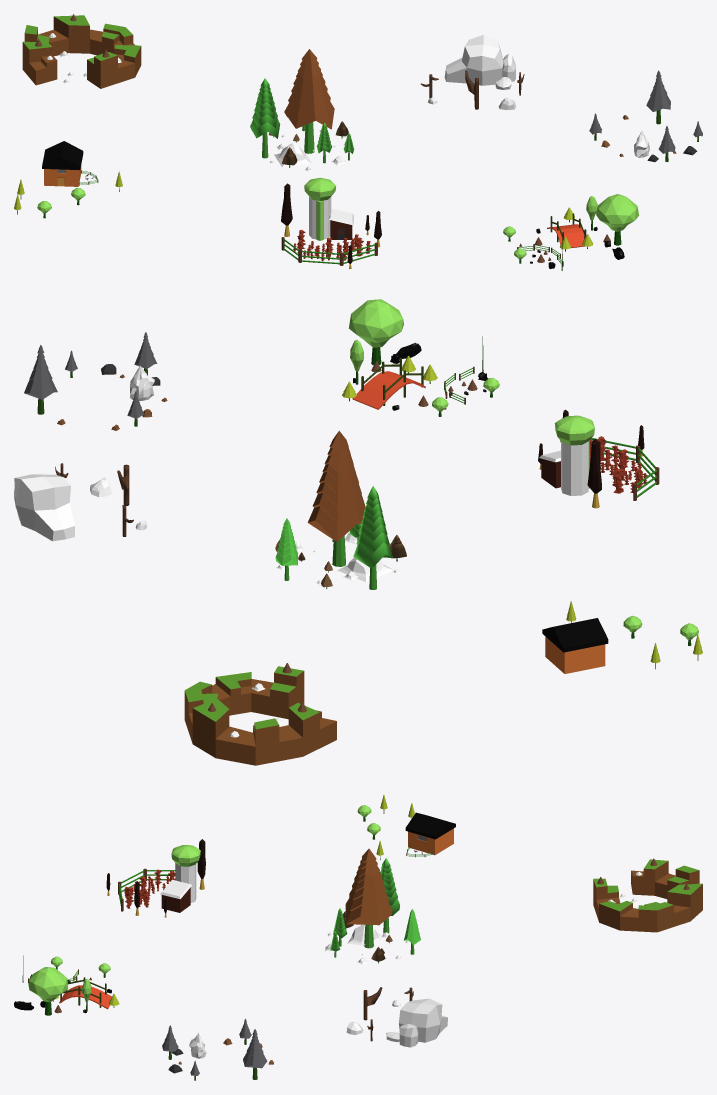
File: village.fbx
3 renders of one model, top to bottom at view 1: azimuth 30°, elevation 25°; view 2: azimuth 150°, elevation 25°; view 3: azimuth 270°, elevation 25°, orthographic. The views are drawn at different scales.
Parts seen in each view (by area): view 1: village_01; view 2: village_01; view 3: village_01.
Boxes of the visible parts, left/top/right/bottom form: village_01: left=14, top=14, right=702, bottom=270; village_01: left=14, top=299, right=702, bottom=765; village_01: left=14, top=795, right=702, bottom=1080.
Bounding box in the file's own units: 3320 × 581 × 3533.
